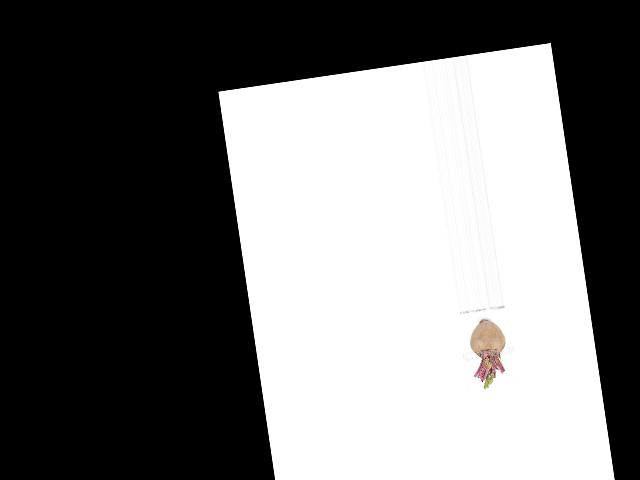beet: (466, 316, 512, 390)
